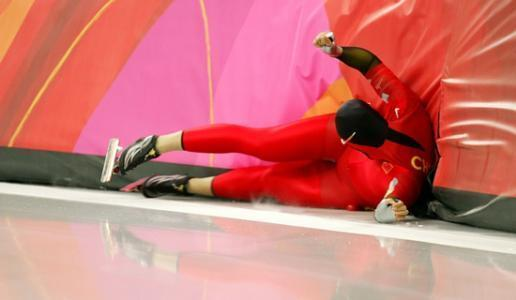Fall-Detected: (99, 12, 458, 221)
